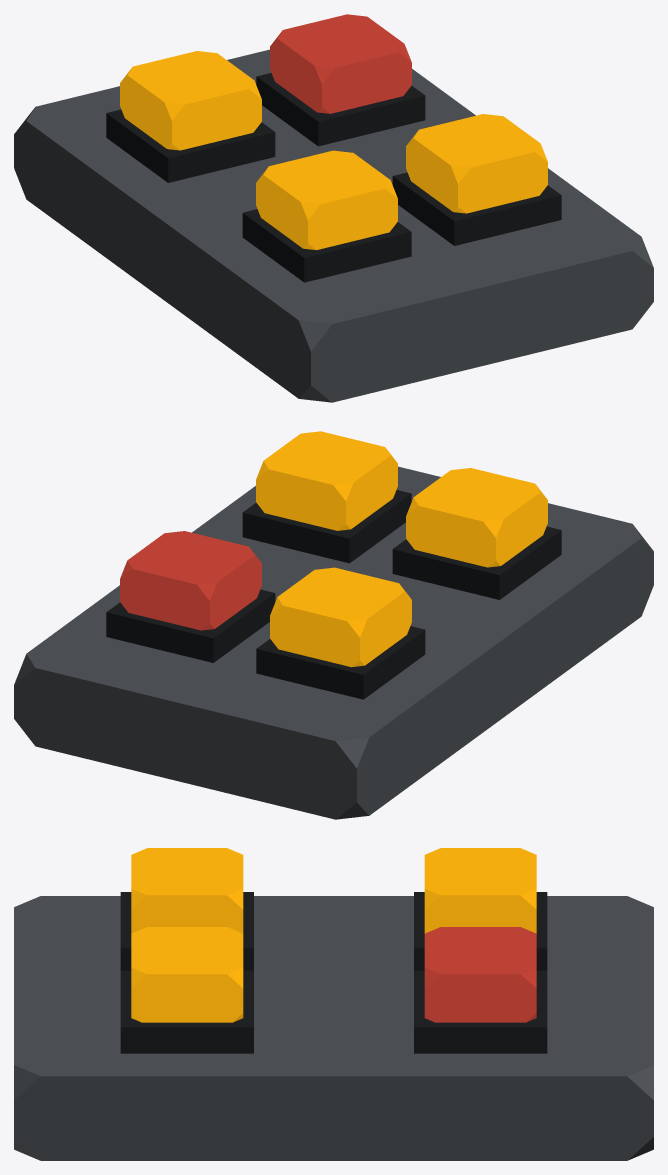
The model's file is hum_preset_panel.glb.
The picture shows the model from 3 angles, top to bottom: view 1: azimuth 30°, elevation 25°; view 2: azimuth 150°, elevation 25°; view 3: azimuth 270°, elevation 25°; orthographic projection. The views are drawn at different scales.
Parts seen in each view (by area): view 1: panel, btn_recon, btn_alert, btn_transit, btn_combat; view 2: panel, btn_alert, btn_combat, btn_recon, btn_transit; view 3: panel, btn_alert, btn_recon, btn_combat, btn_transit.
Boxes of the visible parts, x1,y1,x2,y2 form: panel: (14, 49, 653, 402); btn_recon: (406, 114, 547, 213); btn_alert: (270, 14, 411, 113); btn_transit: (120, 51, 261, 150); btn_combat: (256, 150, 397, 250); panel: (14, 466, 653, 819); btn_alert: (120, 531, 261, 630); btn_combat: (406, 468, 547, 567); btn_recon: (256, 431, 397, 530); btn_transit: (270, 567, 411, 667); panel: (14, 892, 653, 1160); btn_alert: (424, 927, 536, 1022); btn_recon: (131, 927, 243, 1022); btn_combat: (131, 848, 243, 933); btn_transit: (424, 848, 536, 933).
Bounding box in the file's own units: 0.16 × 0.066 × 0.24.
Materials: 2 (2 with a texture image).
